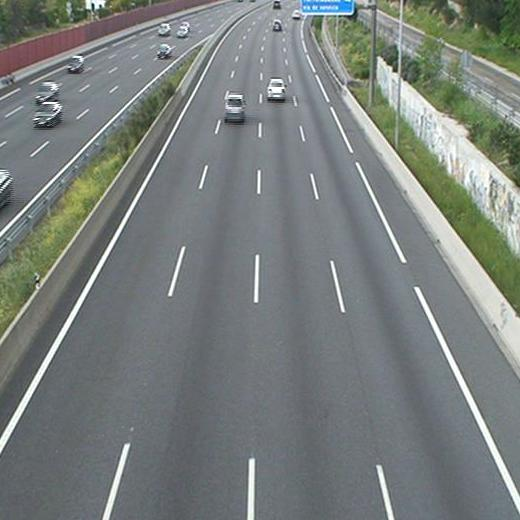car: (222, 94, 245, 123), (267, 78, 287, 102)
